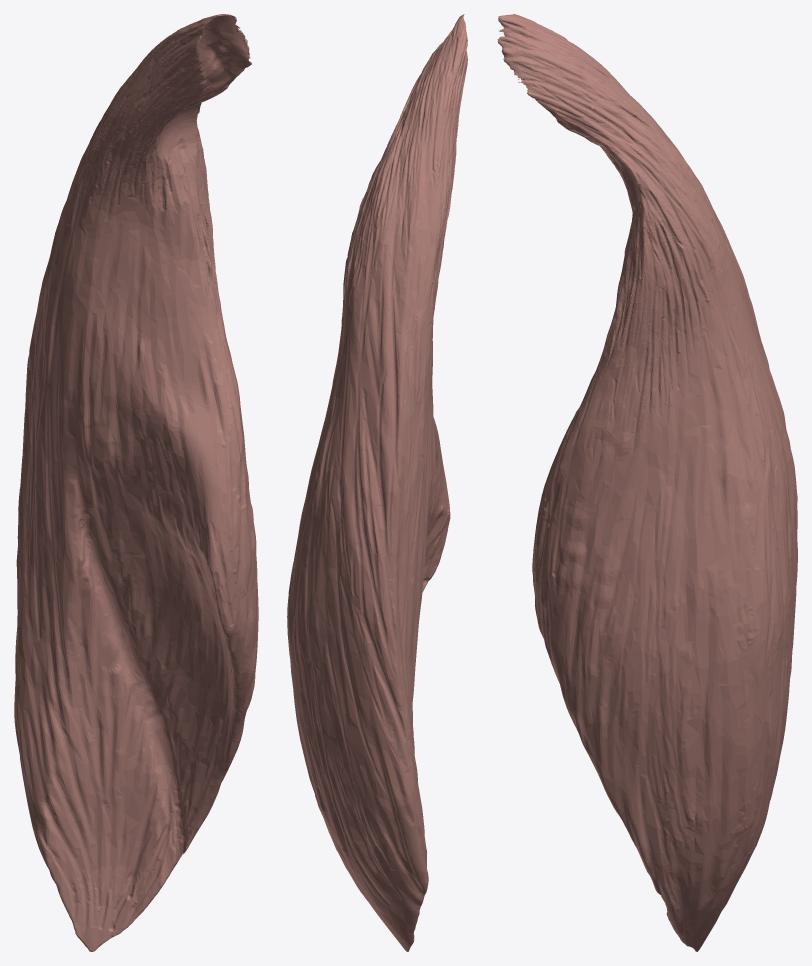
Rendered from FMA45958.glb.
The picture shows the model from 3 angles, left to right: view 1: azimuth 30°, elevation 25°; view 2: azimuth 150°, elevation 25°; view 3: azimuth 270°, elevation 25°; orthographic projection. The views are drawn at different scales.
Parts seen in each view (by area): view 1: B.FMA45958; view 2: B.FMA45958; view 3: B.FMA45958.
Part boxes in pixels (<box>): B.FMA45958: <box>14,14,258,951</box>; B.FMA45958: <box>287,14,467,951</box>; B.FMA45958: <box>497,14,797,951</box>.
Bounding box in the file's own units: 0.0495 × 0.2898 × 0.0831.
